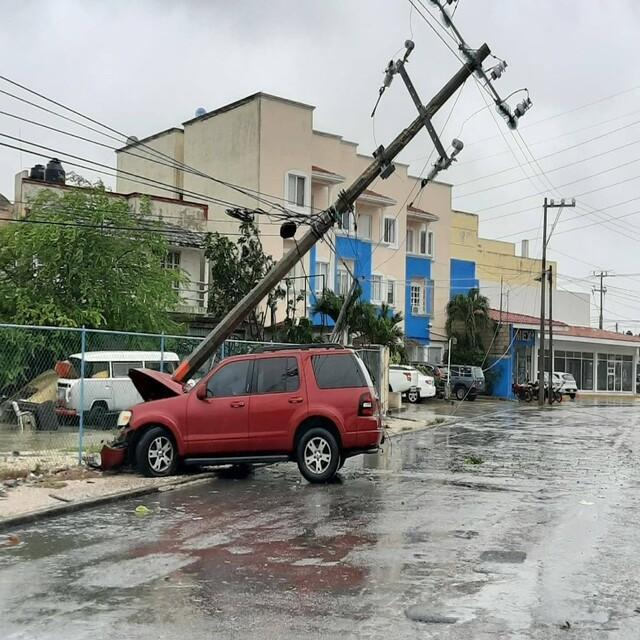Inclined Pole: (169, 0, 540, 380)
